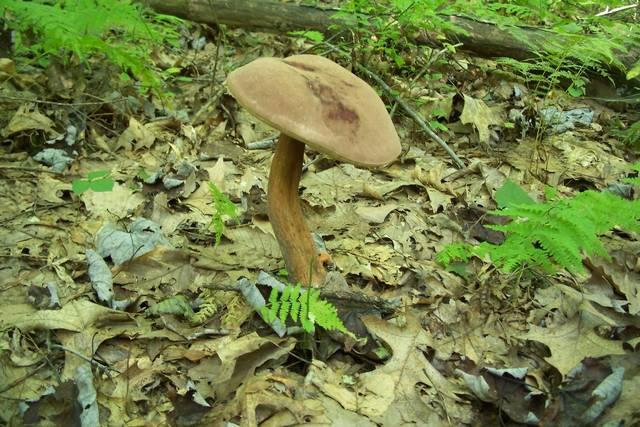Non-edible Mushroom: (222, 52, 402, 289)
